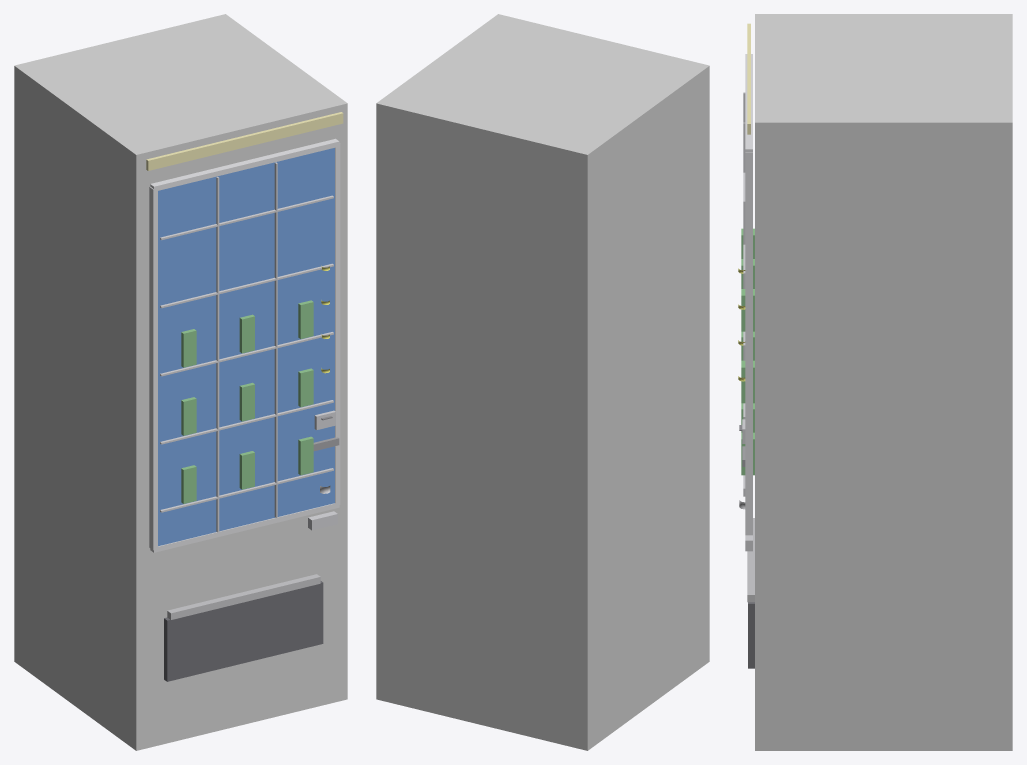
The model's file is vending_machine.glb.
The picture shows the model from 3 angles, left to right: view 1: azimuth 30°, elevation 25°; view 2: azimuth 150°, elevation 25°; view 3: azimuth 270°, elevation 25°; orthographic projection. The views are drawn at different scales.
Visible parts, largest first — view 1: body, display_glass, dispenser_cavity, display_frame_lr, product_samples, slot_shelves, display_frame_tb, slot_dividers_v, header_light, dispenser_flap; view 2: body; view 3: body, display_frame_lr, product_samples, display_frame_tb, dispenser_flap, slot_dividers_v, dispenser_cavity.
Part boxes in pixels (x1=…): body: x1=14, y1=14, x2=347, y2=750; display_glass: x1=158, y1=148, x2=334, y2=546; dispenser_cavity: x1=164, y1=581, x2=323, y2=681; display_frame_lr: x1=149, y1=144, x2=340, y2=550; product_samples: x1=181, y1=300, x2=313, y2=503; slot_shelves: x1=160, y1=195, x2=333, y2=512; display_frame_tb: x1=150, y1=138, x2=339, y2=552; slot_dividers_v: x1=216, y1=162, x2=277, y2=532; header_light: x1=146, y1=112, x2=343, y2=170; dispenser_flap: x1=167, y1=574, x2=320, y2=619; body: x1=376, y1=14, x2=709, y2=750; body: x1=755, y1=14, x2=1012, y2=750; display_frame_lr: x1=745, y1=152, x2=752, y2=532; product_samples: x1=741, y1=228, x2=754, y2=475; display_frame_tb: x1=745, y1=54, x2=752, y2=535; dispenser_flap: x1=747, y1=518, x2=754, y2=602; slot_dividers_v: x1=743, y1=92, x2=745, y2=496; dispenser_cavity: x1=748, y1=602, x2=754, y2=668.
Size of the model in its own units: 0.65 by 1.75 by 0.692.
